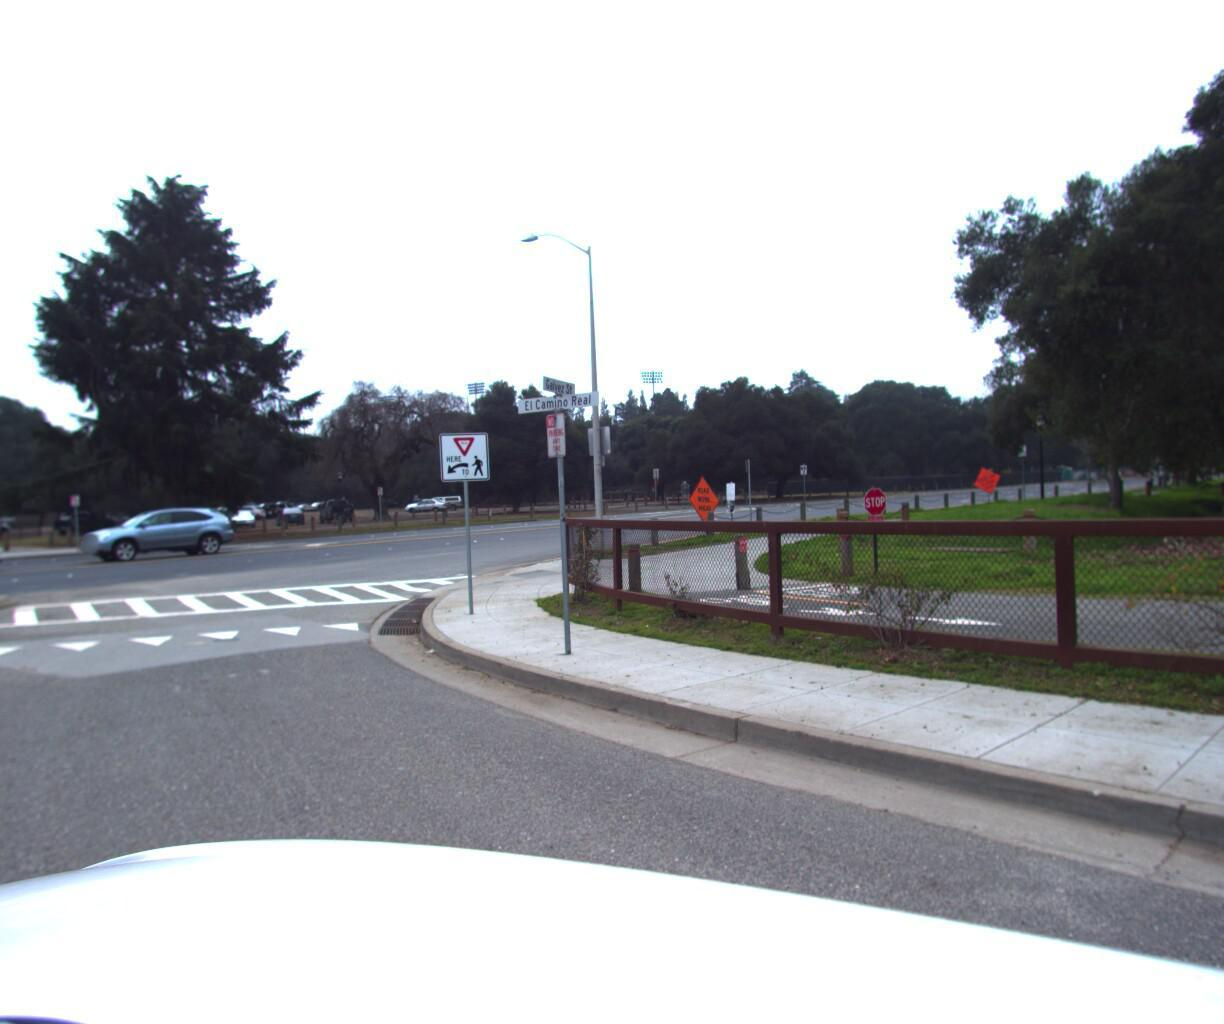car: (65, 504, 236, 564)
